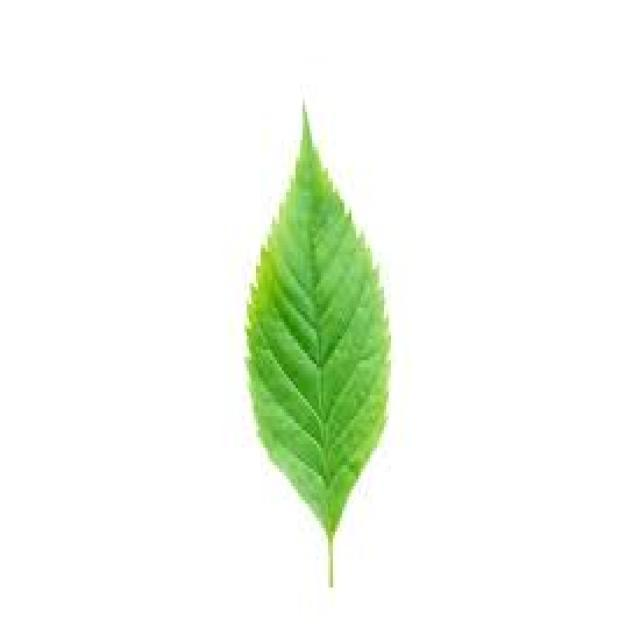leaf: (243, 97, 391, 586)
